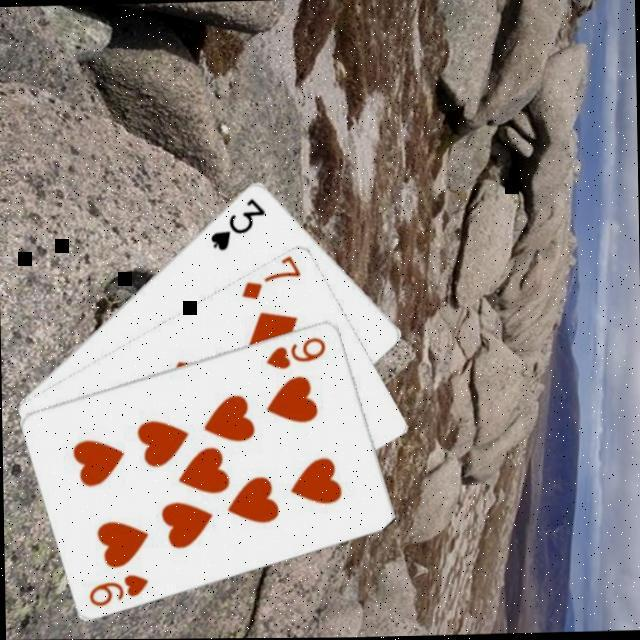3S: (208, 192, 270, 252)
7D: (238, 252, 306, 301)
9H: (264, 331, 332, 370), (86, 568, 154, 607)
